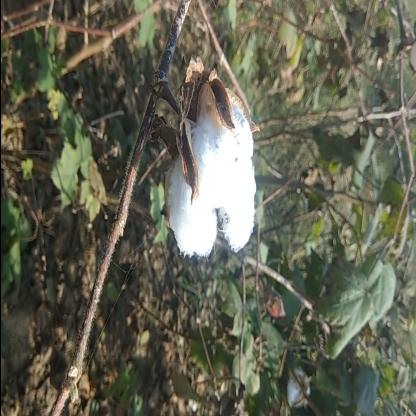cotton_ready: (138, 31, 270, 301)
